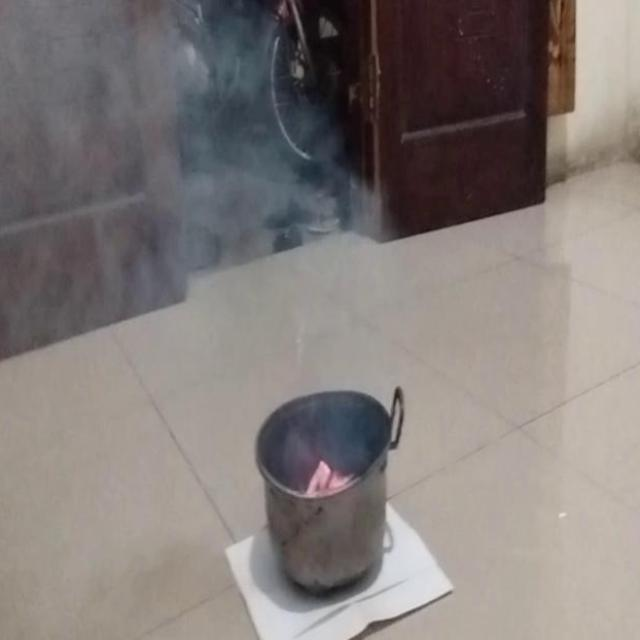fire: (0, 0, 363, 411)
